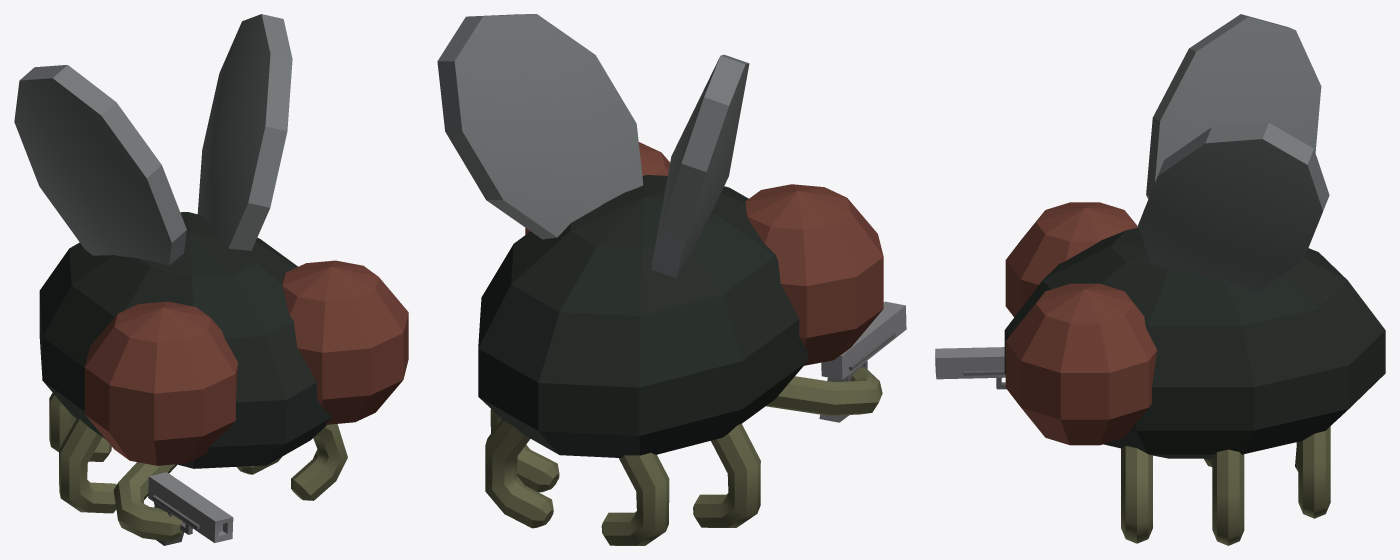
Rendered from fly enemy.fbx.
The picture shows the model from 3 angles, left to right: view 1: azimuth 30°, elevation 25°; view 2: azimuth 150°, elevation 25°; view 3: azimuth 270°, elevation 25°; orthographic projection. The views are drawn at different scales.
Visible parts, largest first — view 1: pCylinder10; view 2: pCylinder10; view 3: pCylinder10.
Part boxes in pixels (x1,y1,x2,y2): pCylinder10: (14, 14, 408, 545); pCylinder10: (437, 14, 906, 545); pCylinder10: (935, 14, 1385, 545).
Size of the model in its own units: 138 by 195 by 181.
